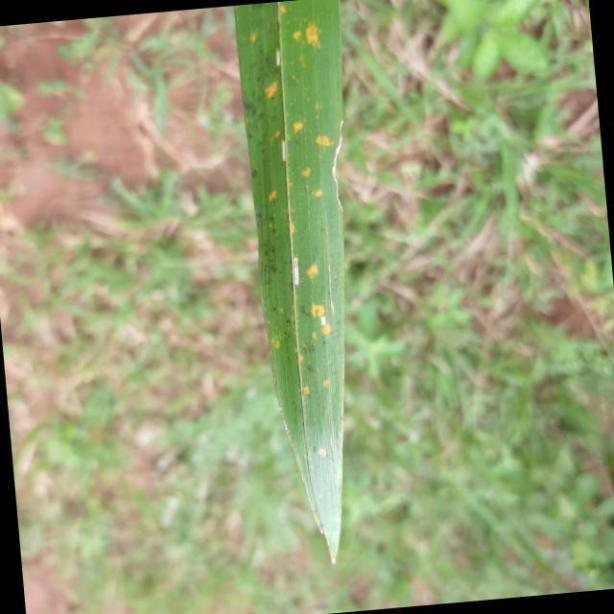Kalium: (230, 0, 349, 600)
